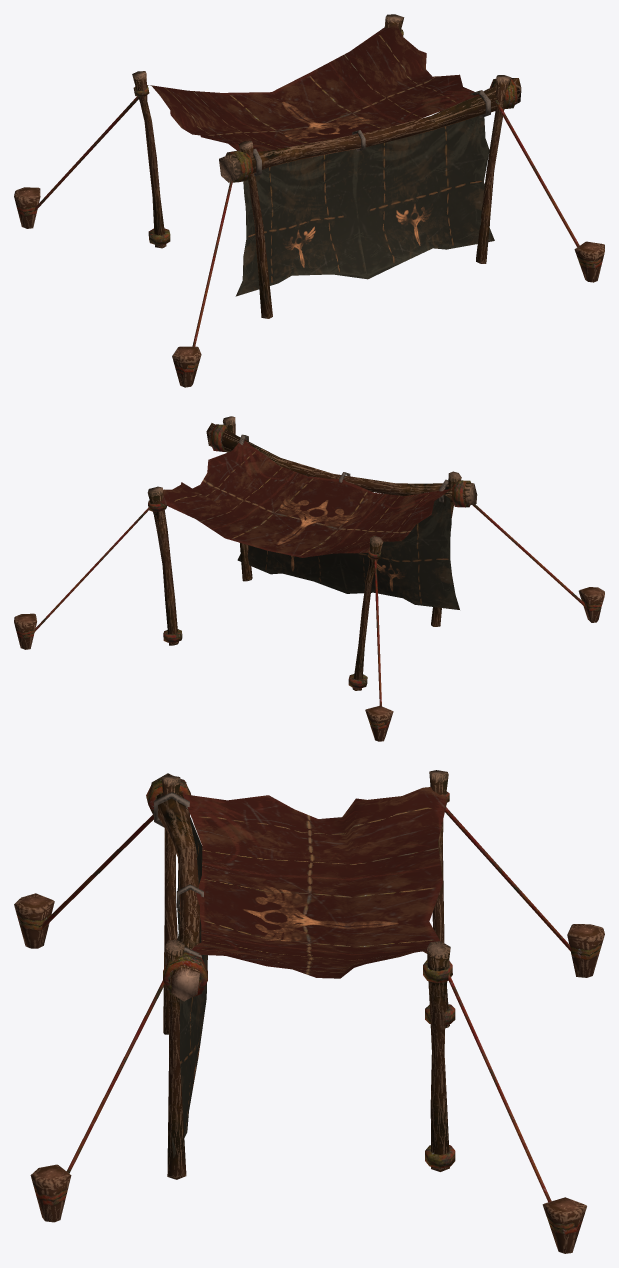
File: tent_000_02.FBX
3 views of the same model, one above another, from view 1: azimuth 30°, elevation 25°; view 2: azimuth 150°, elevation 25°; view 3: azimuth 270°, elevation 25° (orthographic). The views are drawn at different scales.
Parts seen in each view (by area): view 1: Object001; view 2: Object001; view 3: Object001.
Part boxes in pixels (x1,y1,x2,y2): Object001: (14, 14, 604, 387); Object001: (14, 416, 604, 741); Object001: (14, 770, 604, 1253).
Bounding box in the file's own units: 5.16 × 1.85 × 3.99.
